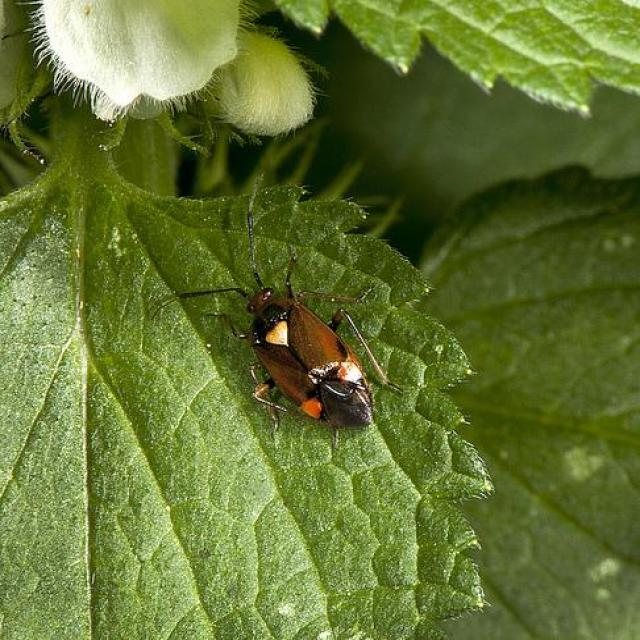Miridae-Adult-: (132, 171, 414, 442)
